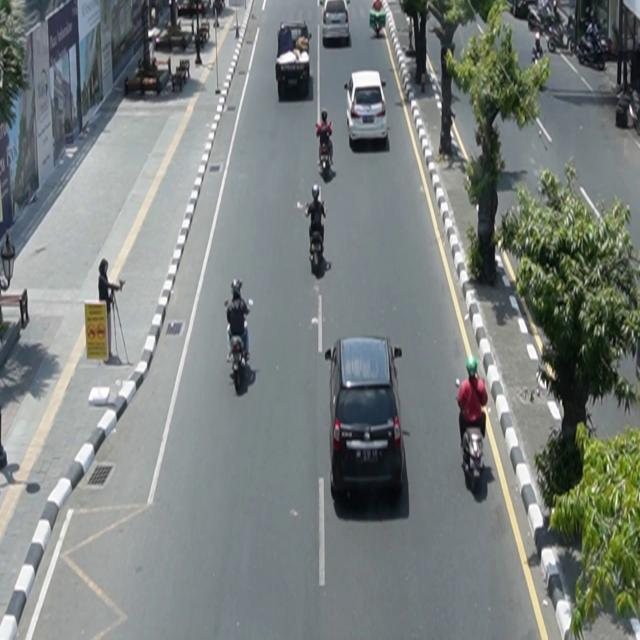car: (326, 335, 405, 504), (345, 71, 389, 145), (276, 21, 313, 100)
